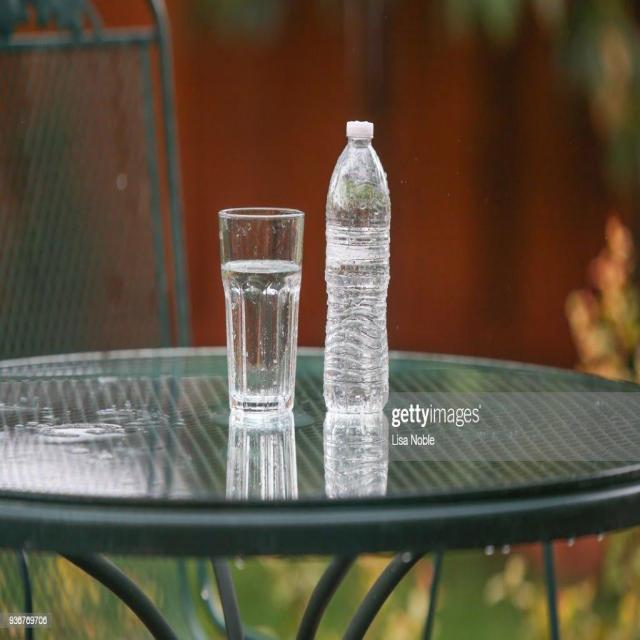bottle: (324, 105, 390, 422)
